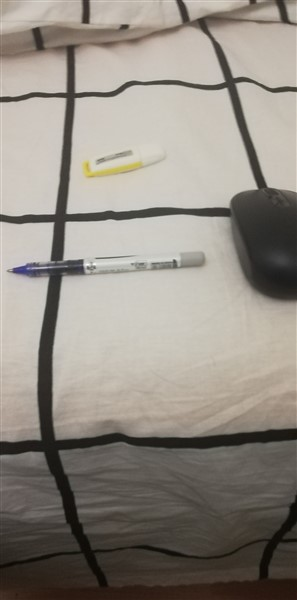flash disk: (78, 139, 180, 185)
mouse: (226, 182, 297, 306)
pilot kalem: (5, 241, 211, 292)
